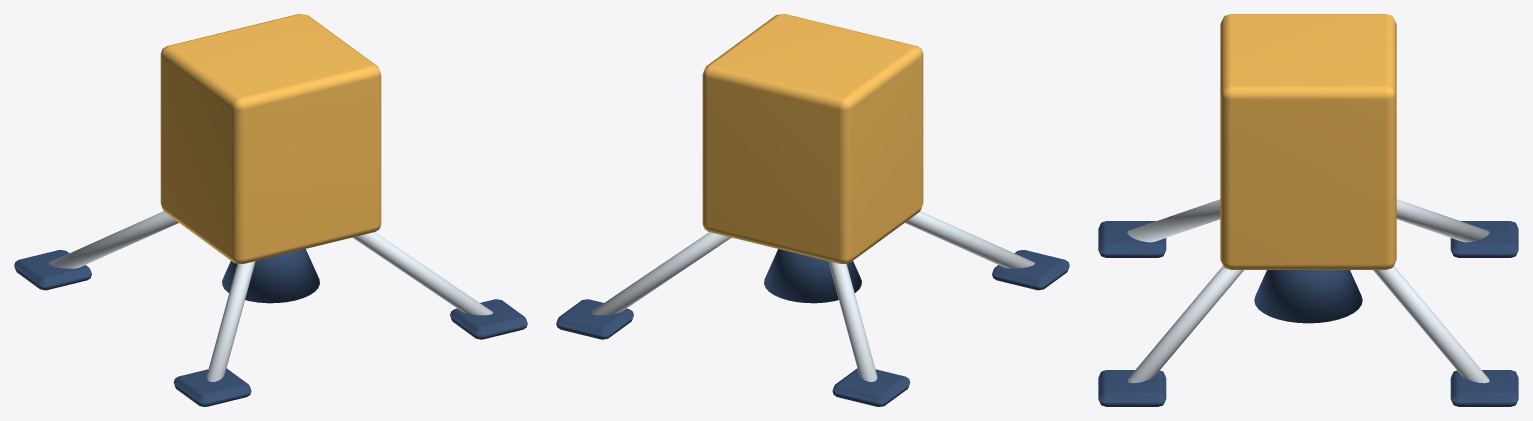
File: lunar-lander-lite.glb
3 renders of one model, left to right at view 1: azimuth 30°, elevation 25°; view 2: azimuth 150°, elevation 25°; view 3: azimuth 270°, elevation 25°, orthographic. The views are drawn at different scales.
Visible parts, largest first — view 1: Landing module; view 2: Landing module; view 3: Landing module.
Part boxes in pixels (bbox=[...]): Landing module: bbox=[14, 14, 527, 406]; Landing module: bbox=[556, 14, 1069, 406]; Landing module: bbox=[1098, 14, 1518, 406].
Bounding box in the file's own units: 1.55 × 1.11 × 1.55.
